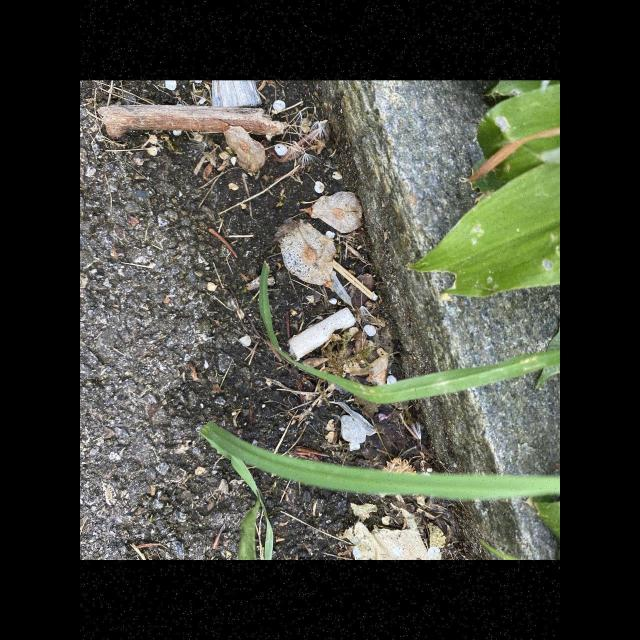cigarette: (288, 307, 356, 358)
